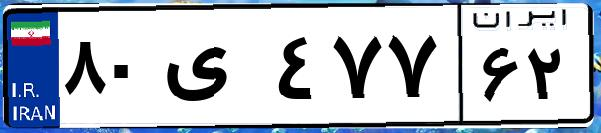0: (110, 28, 158, 98)
2: (525, 38, 570, 115)
4: (270, 28, 330, 110)
6: (475, 38, 525, 113)
7: (385, 28, 445, 110), (330, 28, 385, 110)
8: (57, 26, 110, 100)
ی: (158, 20, 270, 120)
